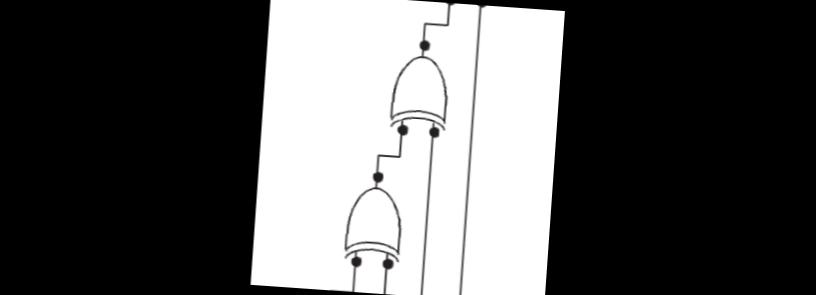xor: (381, 43, 455, 128), (338, 177, 410, 260)
